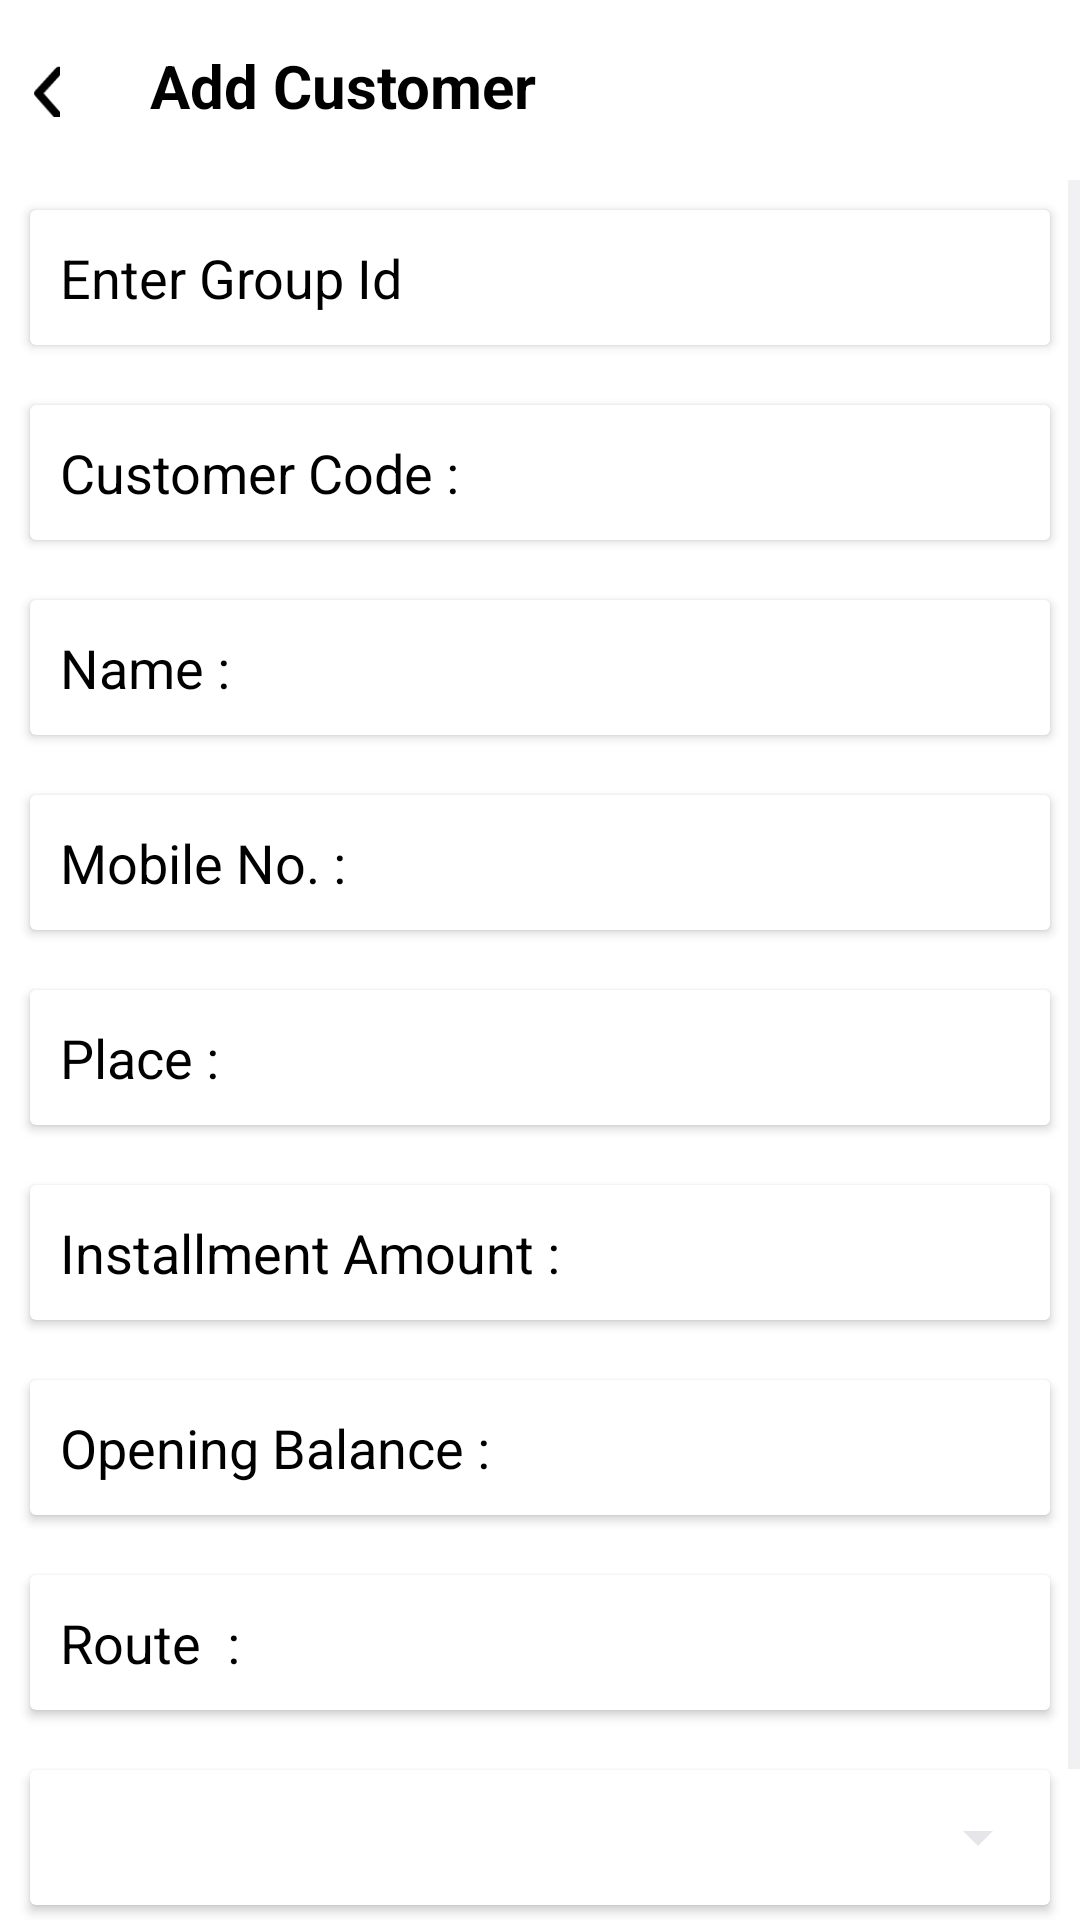

Named icons in this screenshot (1080w x 1920h) and their bounding boxes, BBox(x1, y1, x2, y2):
arrowback: BBox(34, 66, 60, 117)
